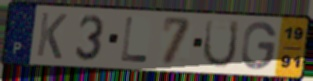3: (74, 13, 106, 63)
7: (160, 15, 194, 68)
G: (239, 20, 279, 72)
K: (34, 11, 69, 62)
L: (119, 16, 150, 64)
U: (200, 17, 242, 70)
